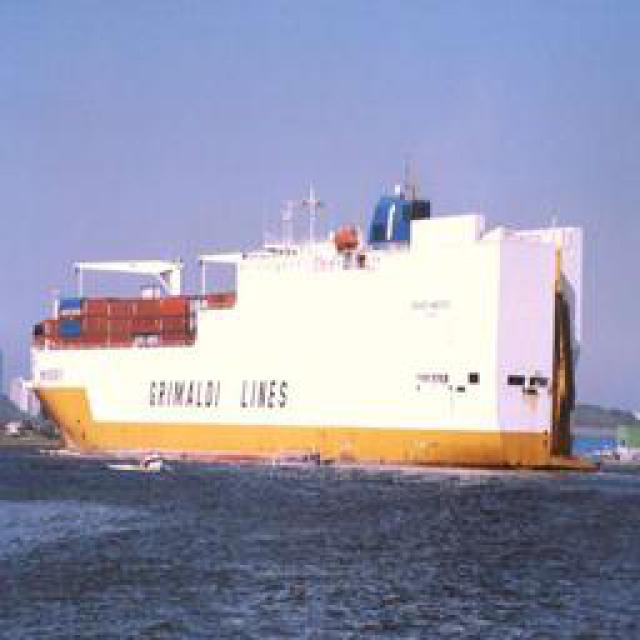Ship: (24, 214, 587, 467)
